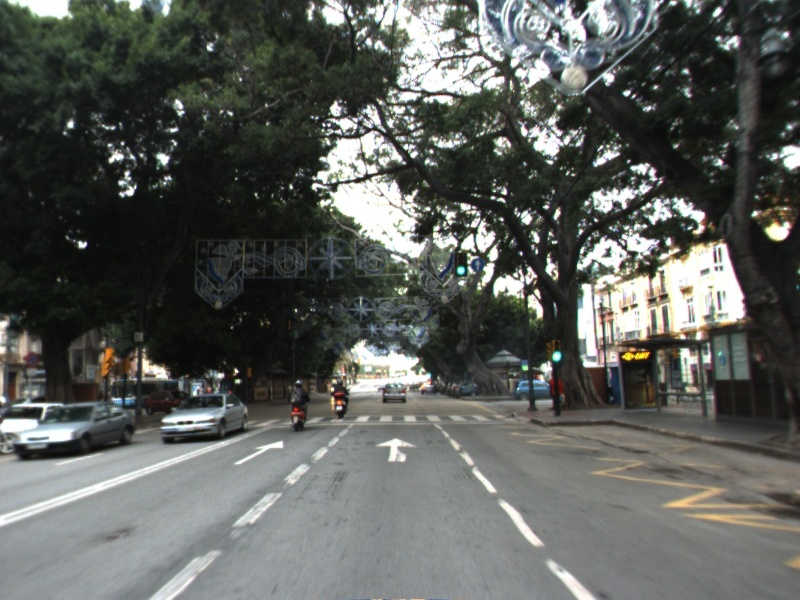STRAIGHT: (232, 439, 286, 466), (374, 436, 420, 464)
